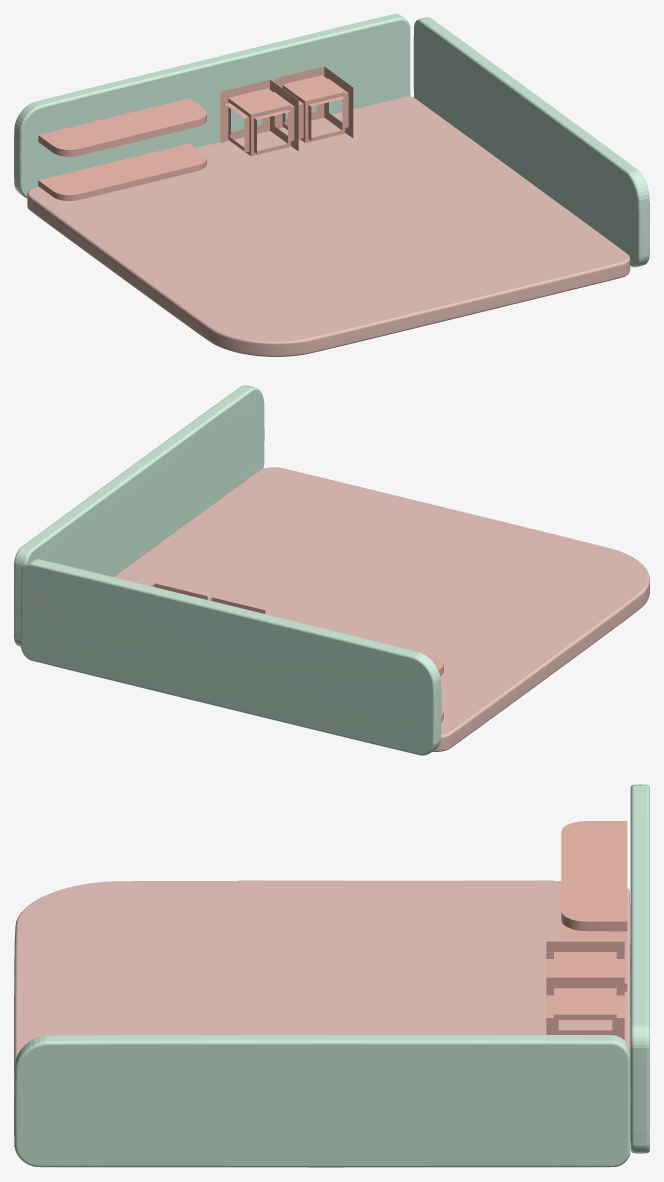
File: store32.glb
3 renders of one model, top to bottom at view 1: azimuth 30°, elevation 25°; view 2: azimuth 150°, elevation 25°; view 3: azimuth 270°, elevation 25°, orthographic. The views are drawn at different scales.
Size of the model in its own units: 3.09 by 0.6879 by 3.08.
